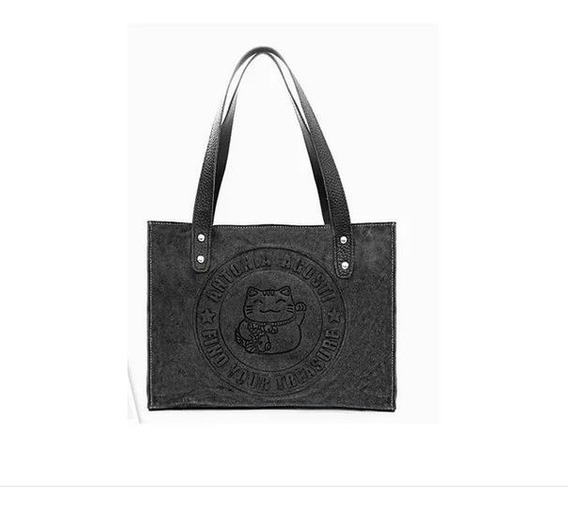cartera: (145, 45, 400, 414)
